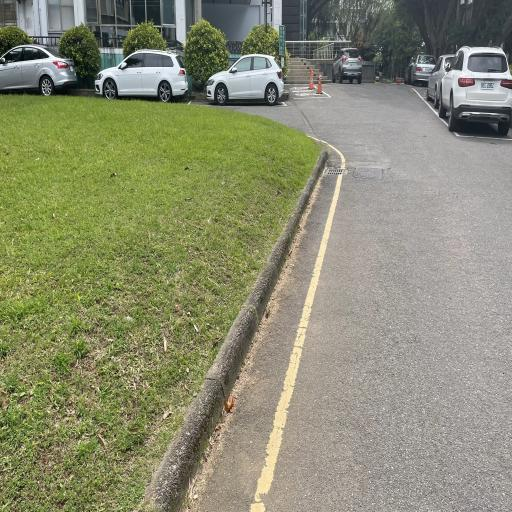car: (439, 43, 511, 136), (91, 42, 190, 107), (201, 42, 289, 115), (0, 33, 78, 103), (330, 42, 366, 88), (405, 44, 439, 91)
yellowline: (248, 123, 348, 506)
